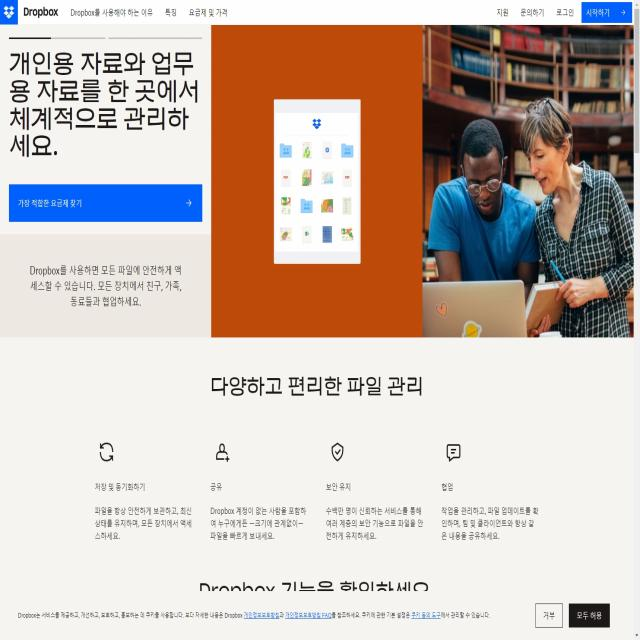menu-bar: (66, 1, 231, 21)
